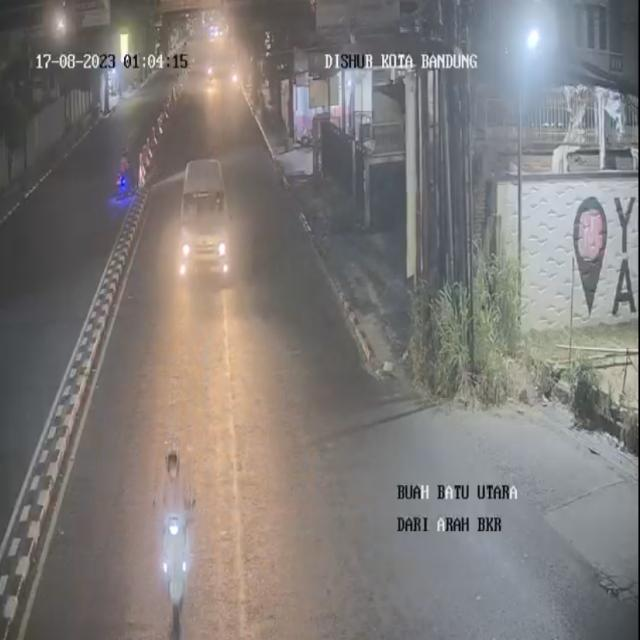cars: (172, 152, 236, 288)
motorcycle: (148, 441, 203, 634)
